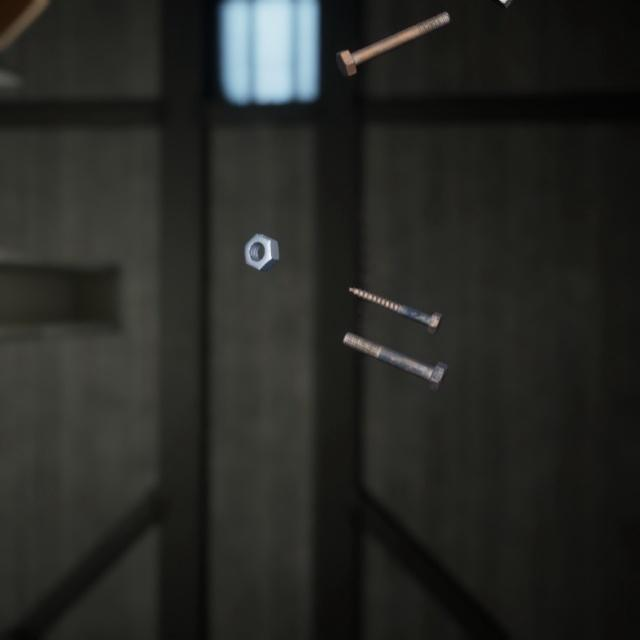bolt: (331, 0, 454, 72), (338, 309, 452, 378), (344, 266, 447, 322)
nut: (239, 212, 283, 259)
